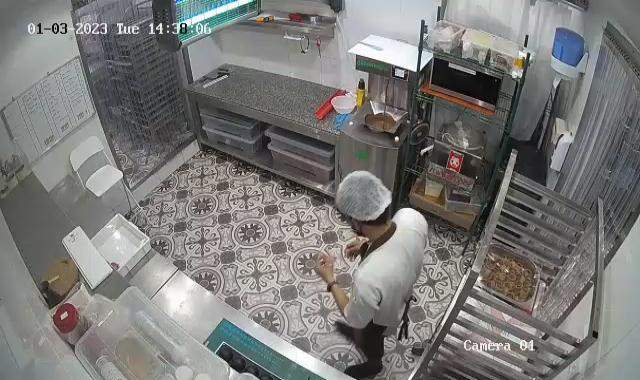hairnet: (330, 169, 394, 230)
